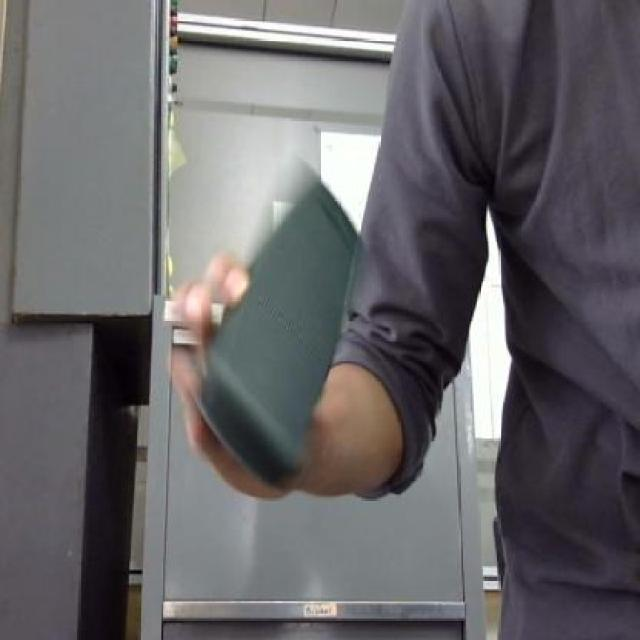Plastic: (185, 166, 379, 499)
